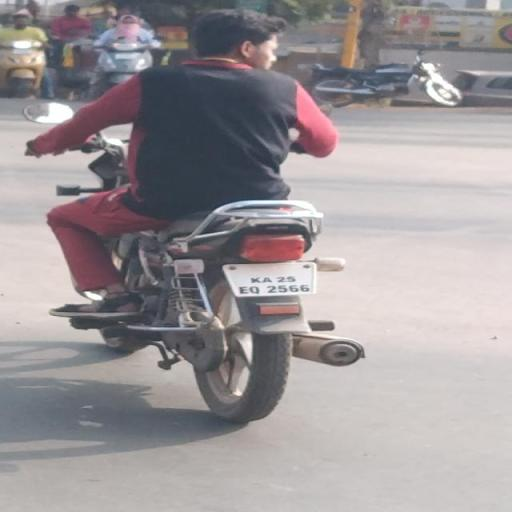bike: (28, 5, 378, 414)
numberplate: (228, 258, 320, 300)
withouthelmet: (191, 10, 277, 64)
